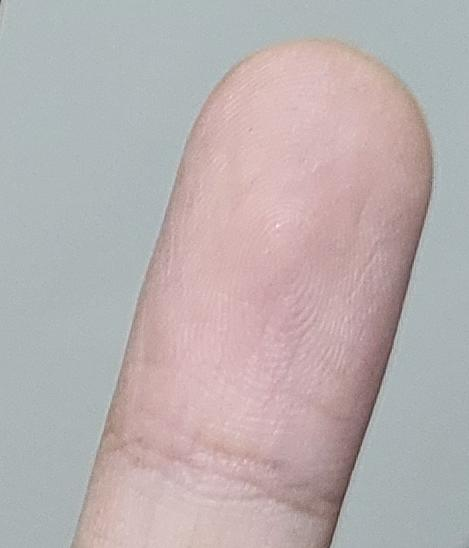Fingerprints: (110, 38, 433, 502)
